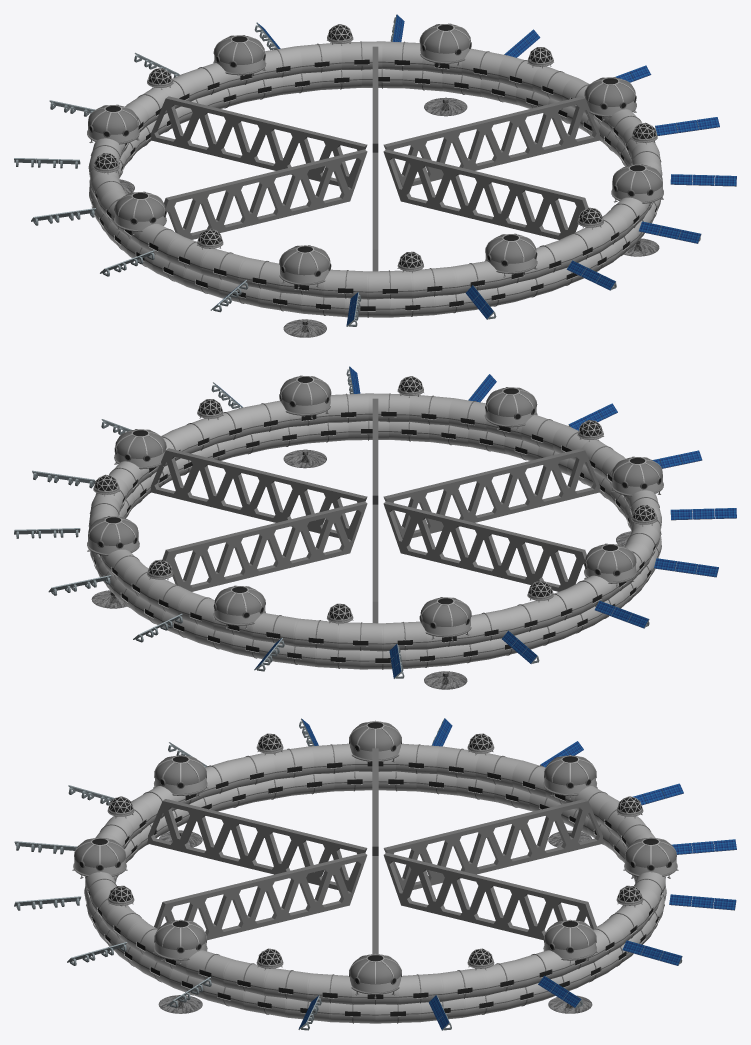
Rendered from orbital_ring.glb.
3 views of the same model, one above another, from view 1: azimuth 30°, elevation 25°; view 2: azimuth 150°, elevation 25°; view 3: azimuth 270°, elevation 25° (orthographic).
Parts seen in each view (by area): view 1: q_truss.90, q_truss.88, q_truss.87, q_truss.84, q_base.97, q_base.93, q_base.98, q_base.94, q_base.96, q_base.99, q_base.95, q_base.92 (+48 smaller); view 2: q_truss.86, q_truss.88, q_truss.89, q_truss.84, q_base.95, q_base.99, q_base.94, q_base.98, q_base.96, q_base.97, q_base.93, q_base.92 (+49 smaller); view 3: q_truss.87, q_truss.89, q_truss.86, q_truss.90, q_base.92, q_base.93, q_base.99, q_base.95, q_base.97, q_base.94, q_base.96, q_base.98 (+53 smaller).
Part boxes in pixels (box(x1,y1,x2,y2)): q_truss.90: box(383, 149, 588, 239); q_truss.88: box(164, 149, 367, 239); q_truss.87: box(150, 96, 367, 186); q_truss.84: box(383, 96, 600, 186); q_base.97: box(279, 245, 331, 288); q_base.93: box(419, 23, 471, 66); q_base.98: box(485, 233, 537, 277); q_base.94: box(213, 35, 266, 77); q_base.96: box(114, 191, 166, 235); q_base.99: box(611, 164, 663, 206); q_base.95: box(87, 104, 139, 144); q_base.92: box(584, 77, 636, 120); q_truss.86: box(162, 501, 367, 591); q_truss.88: box(383, 501, 586, 591); q_truss.89: box(383, 448, 600, 538); q_truss.84: box(150, 448, 367, 538); q_base.95: box(419, 597, 471, 640); q_base.99: box(279, 375, 331, 418); q_base.94: box(213, 585, 265, 629); q_base.98: box(484, 387, 537, 430); q_base.96: box(584, 543, 636, 587); q_base.97: box(611, 456, 663, 498); q_base.93: box(87, 516, 139, 558); q_base.92: box(114, 429, 166, 469); q_truss.87: box(383, 799, 603, 890); q_truss.89: box(147, 799, 367, 890); q_truss.86: box(383, 852, 596, 940); q_truss.90: box(154, 852, 367, 940); q_base.92: box(349, 953, 401, 998); q_base.93: box(543, 919, 597, 964); q_base.99: box(153, 919, 207, 964); q_base.95: box(543, 755, 597, 799); q_base.97: box(153, 755, 208, 796); q_base.94: box(623, 837, 678, 878); q_base.96: box(349, 720, 401, 762); q_base.98: box(72, 837, 127, 878).
Size of the model in its own units: 26.25 by 3.33 by 26.25.
7 materials, 7 textured.
